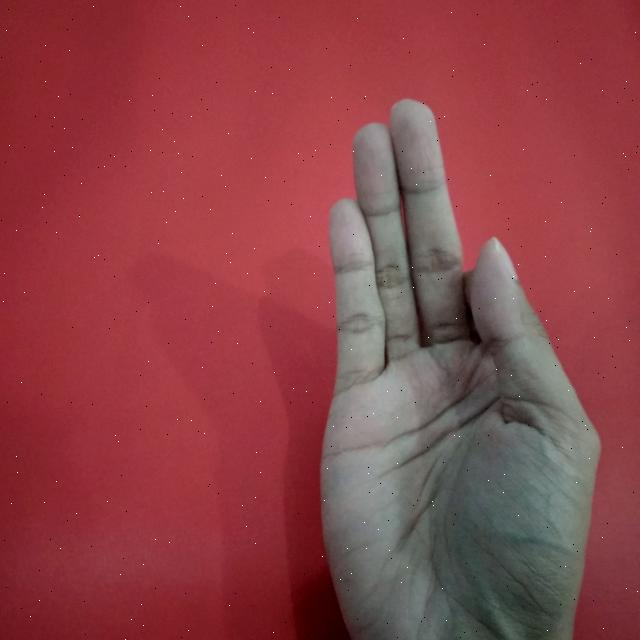F: (317, 93, 606, 640)
